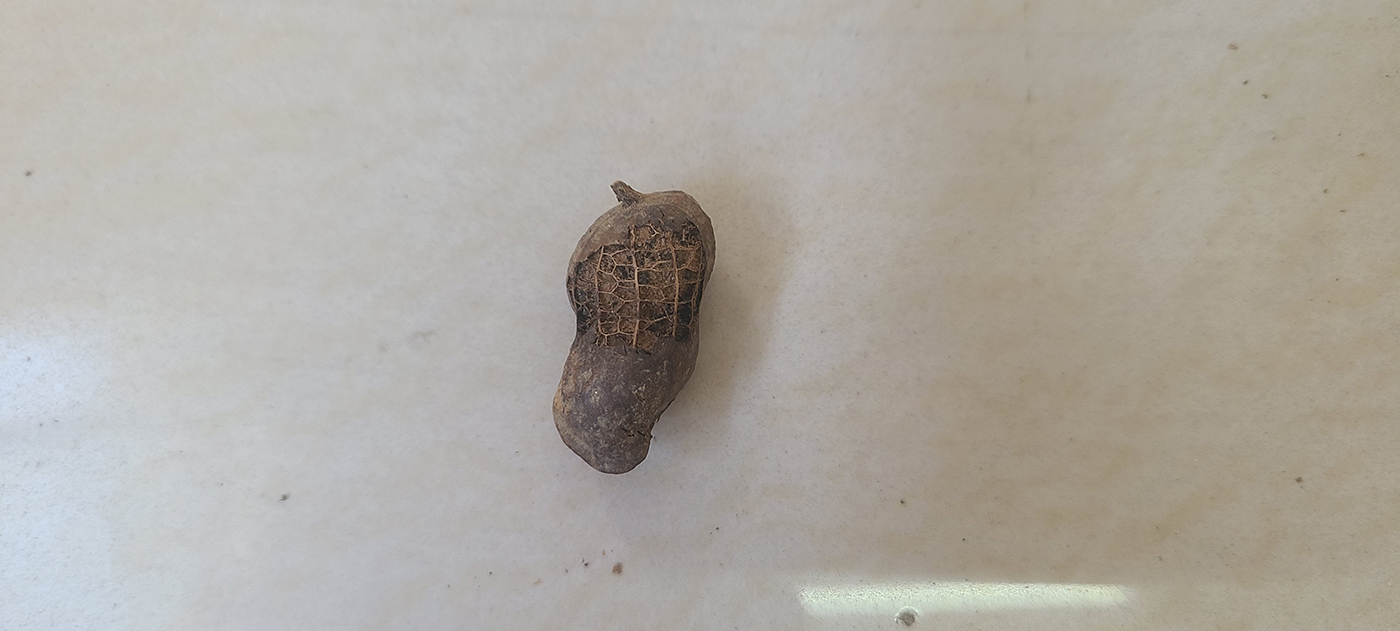l: (551, 194, 721, 476)
